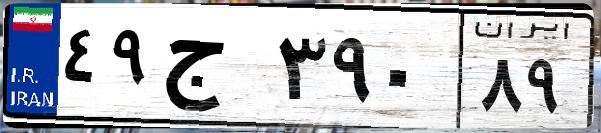0: (385, 28, 445, 110)
3: (270, 28, 330, 110)
4: (57, 26, 110, 100)
8: (475, 38, 525, 113)
9: (330, 28, 385, 110), (525, 38, 570, 115), (110, 28, 158, 98)
ج: (158, 20, 270, 120)
